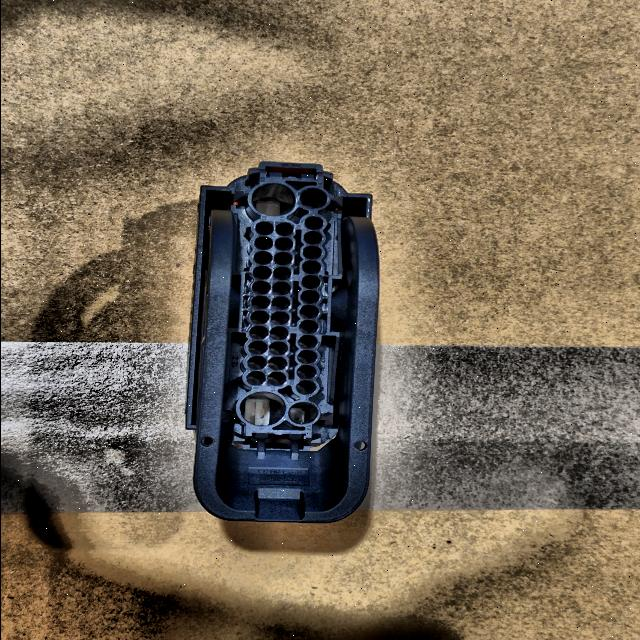P38: (185, 161, 378, 523)
